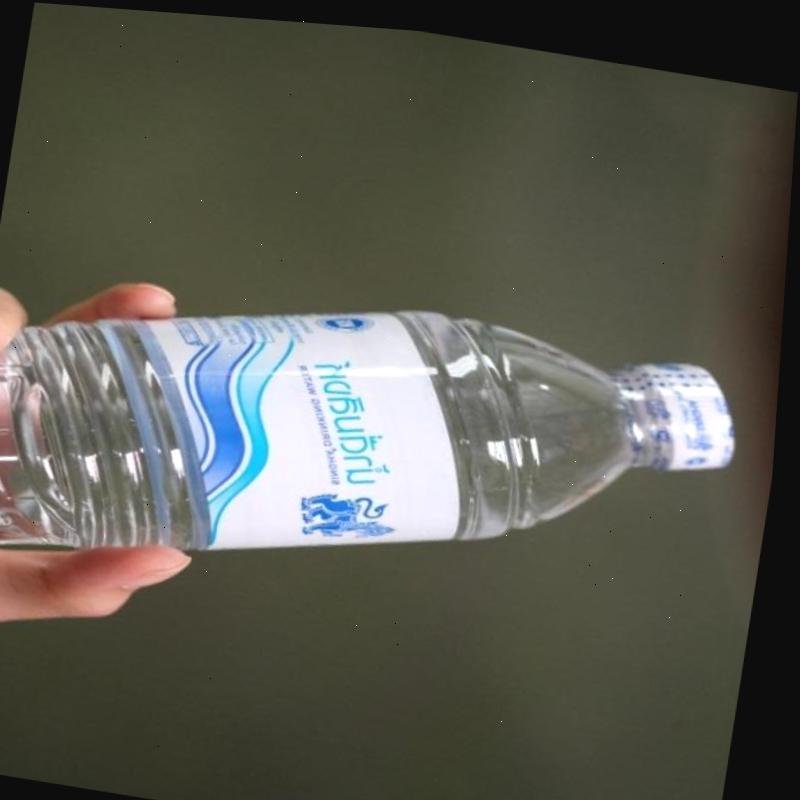botella: (0, 239, 755, 663)
